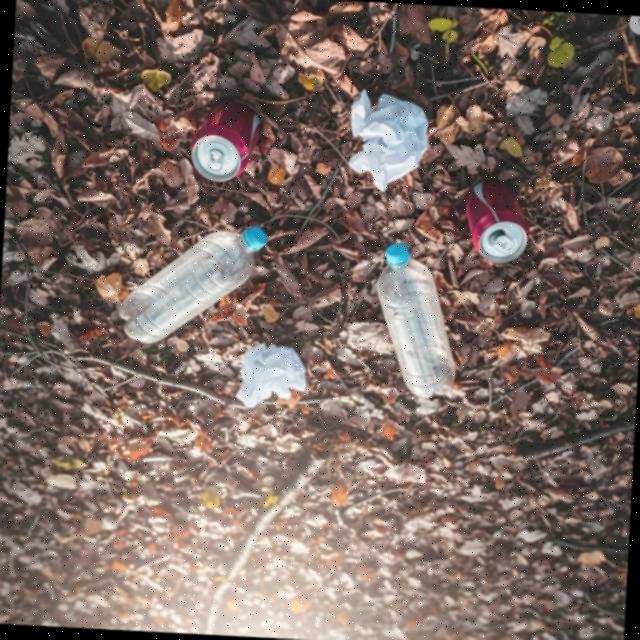aluminum: (186, 98, 262, 186)
paper: (347, 85, 431, 193), (232, 336, 310, 411)
plastic: (114, 216, 270, 352), (373, 240, 464, 402), (464, 181, 530, 269)
